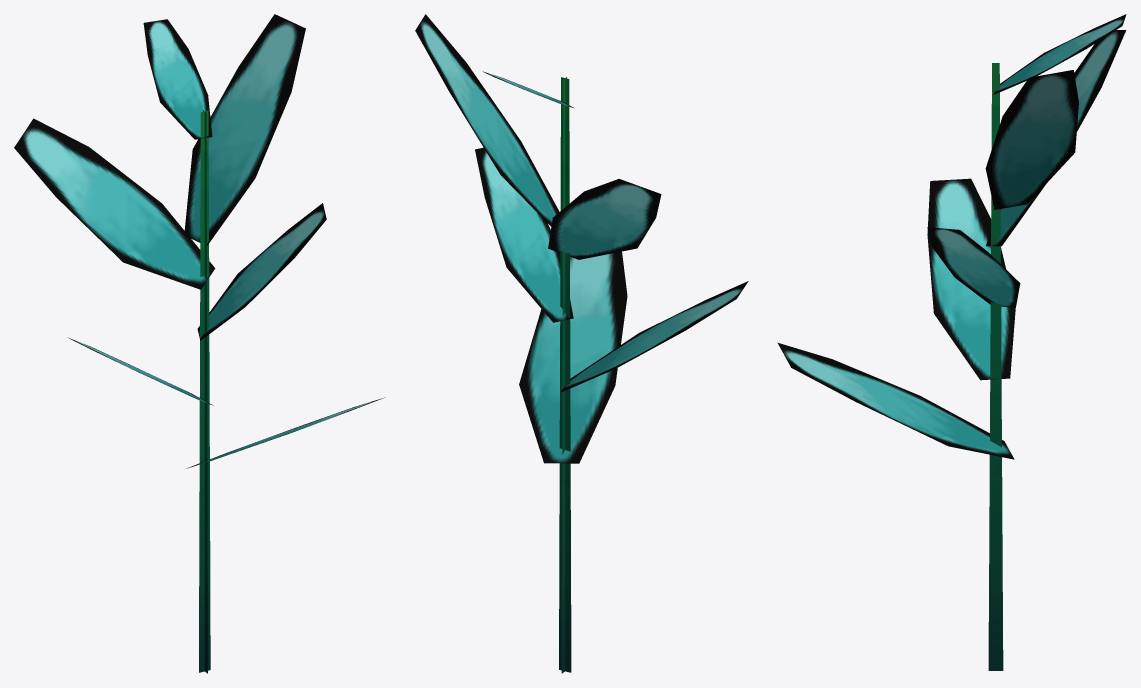
File: SM_Blue_Lila.fbx
3 renders of one model, left to right at view 1: azimuth 30°, elevation 25°; view 2: azimuth 150°, elevation 25°; view 3: azimuth 270°, elevation 25°, orthographic. The views are drawn at different scales.
Visible parts, largest first — view 1: Lila_Bleu2; view 2: Lila_Bleu2; view 3: Lila_Bleu2.
Boxes of the visible parts, x1,y1,x2,y2 form: Lila_Bleu2: (14,14,385,673); Lila_Bleu2: (415,14,748,673); Lila_Bleu2: (777,14,1126,670).
Bounding box in the file's own units: 58.49 × 127 × 61.03.
1 material, 1 textured.
